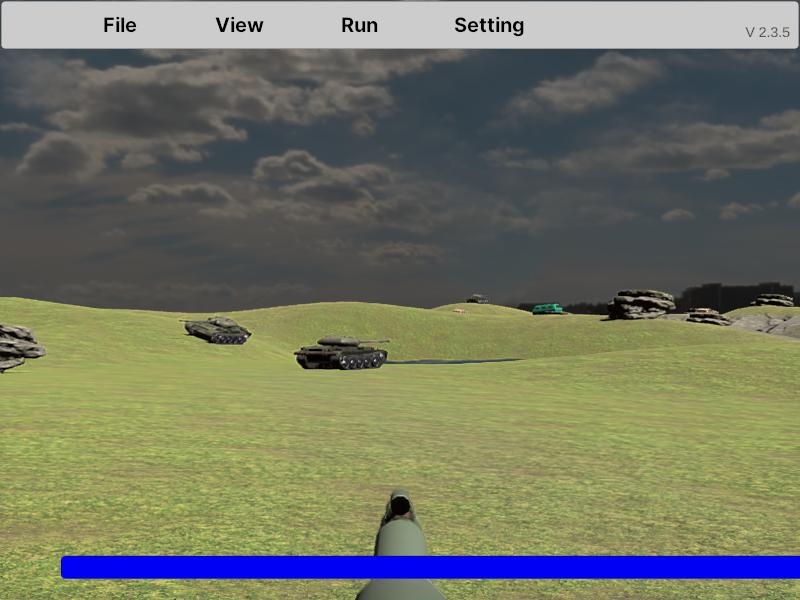Tank: (294, 335, 390, 370), (178, 316, 253, 346), (178, 316, 253, 345)
